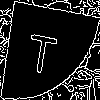T: (24, 24, 60, 76)
